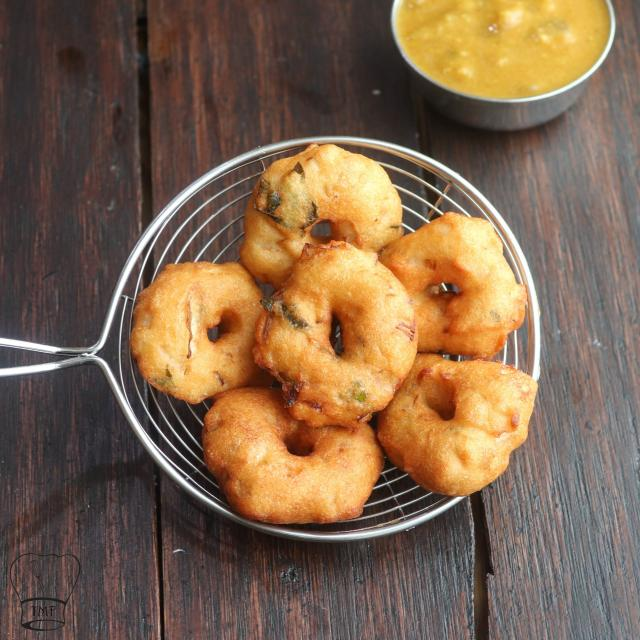MEDU VADA: (135, 145, 533, 520)
